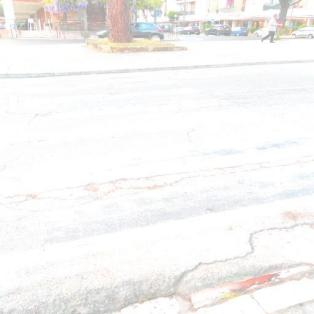Paso de Cebra: (21, 110, 313, 186)
